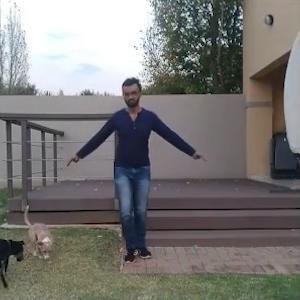land: (71, 86, 212, 246)
